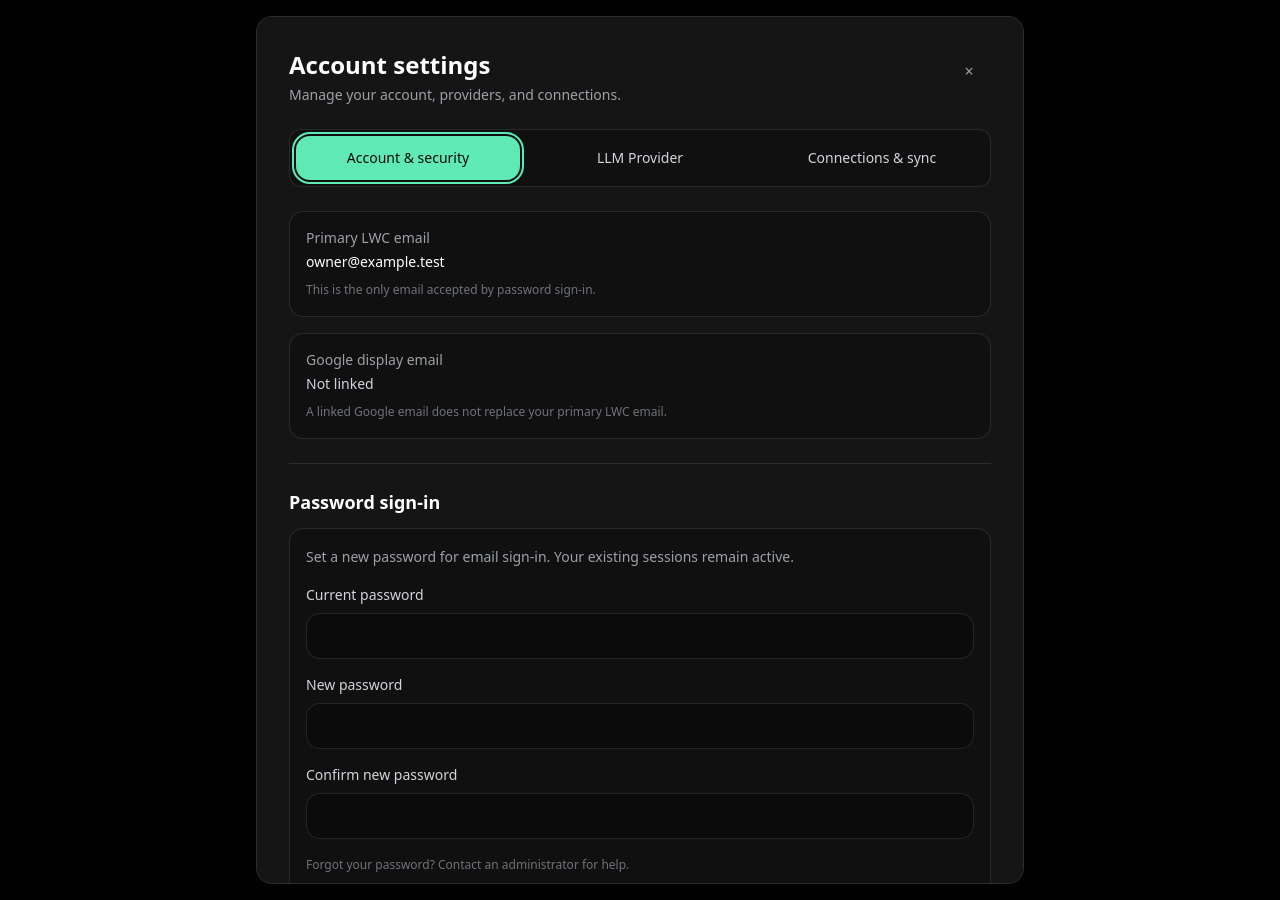
LWC-346 account self-service › requires and sends the current password for configured accounts, then clears password fields on success
In the password field labelled "Current password": [640, 636] box top-left (306, 613), bottom-right (974, 659), type "old-password-431"
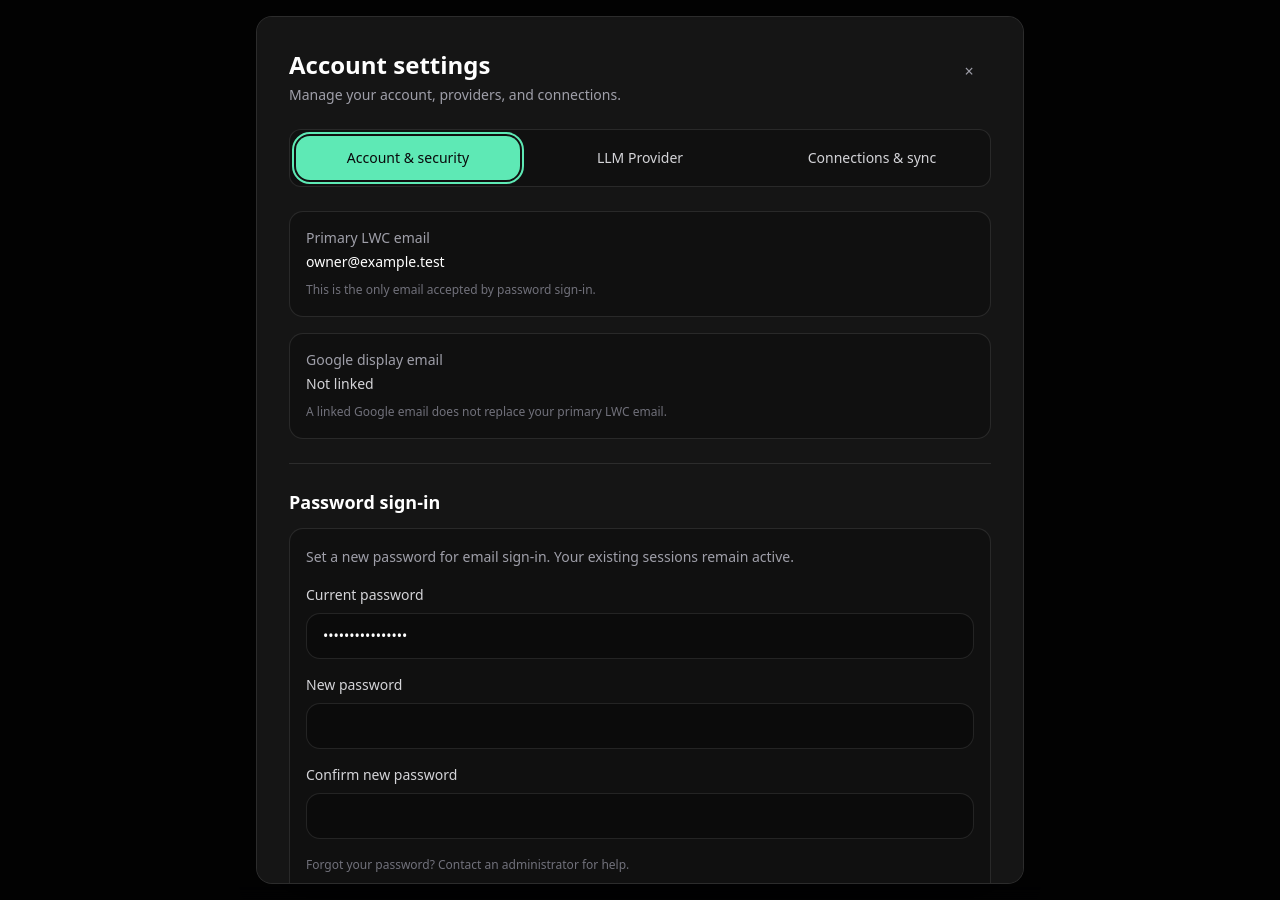
In the password field labelled "New password": [640, 726] box top-left (306, 703), bottom-right (974, 749), type "new-password-431"
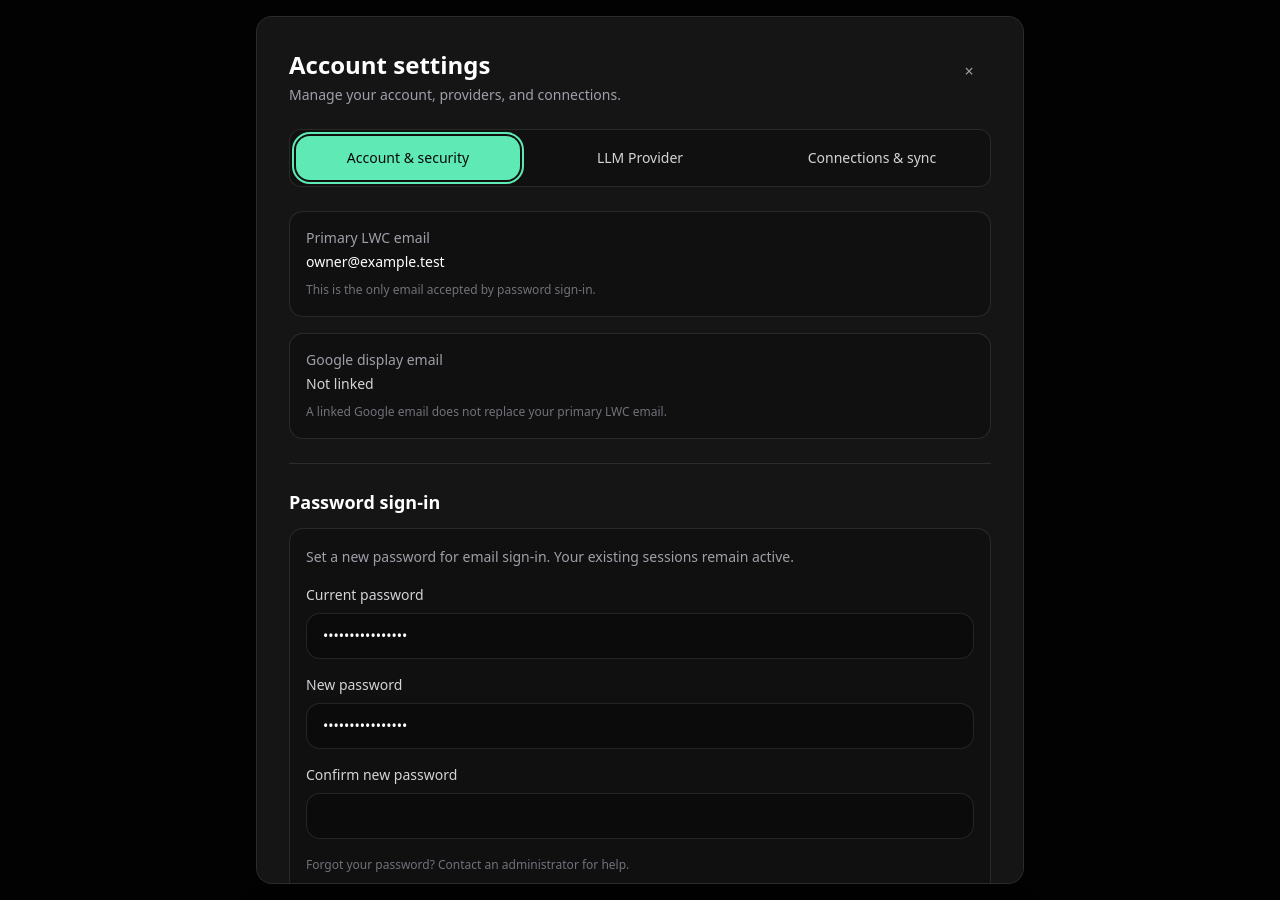
In the password field labelled "Confirm new password": [640, 816] box top-left (306, 793), bottom-right (974, 839), type "new-password-431"
(page scrolled)
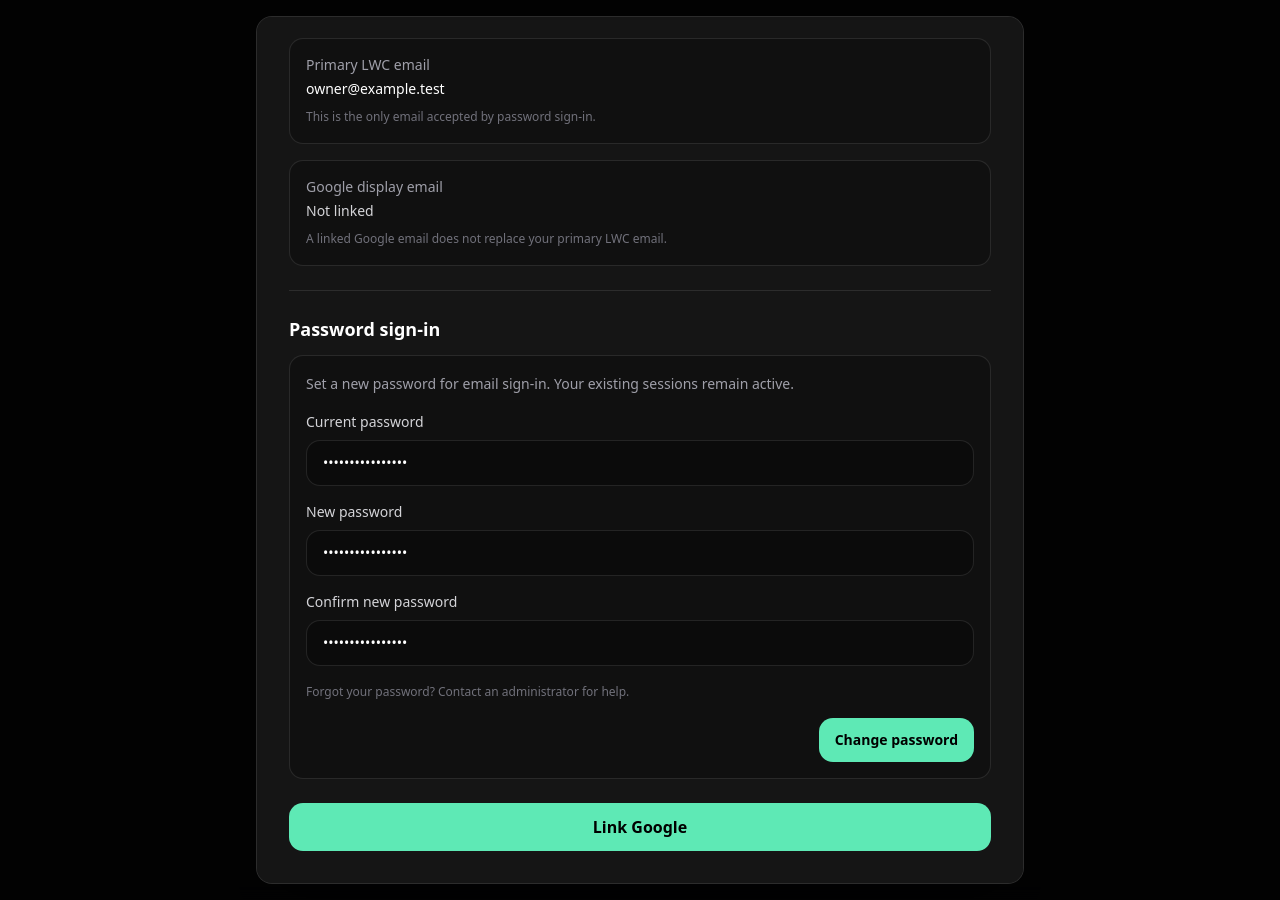
Click the button "Change password": [896, 740] box top-left (819, 718), bottom-right (974, 762)
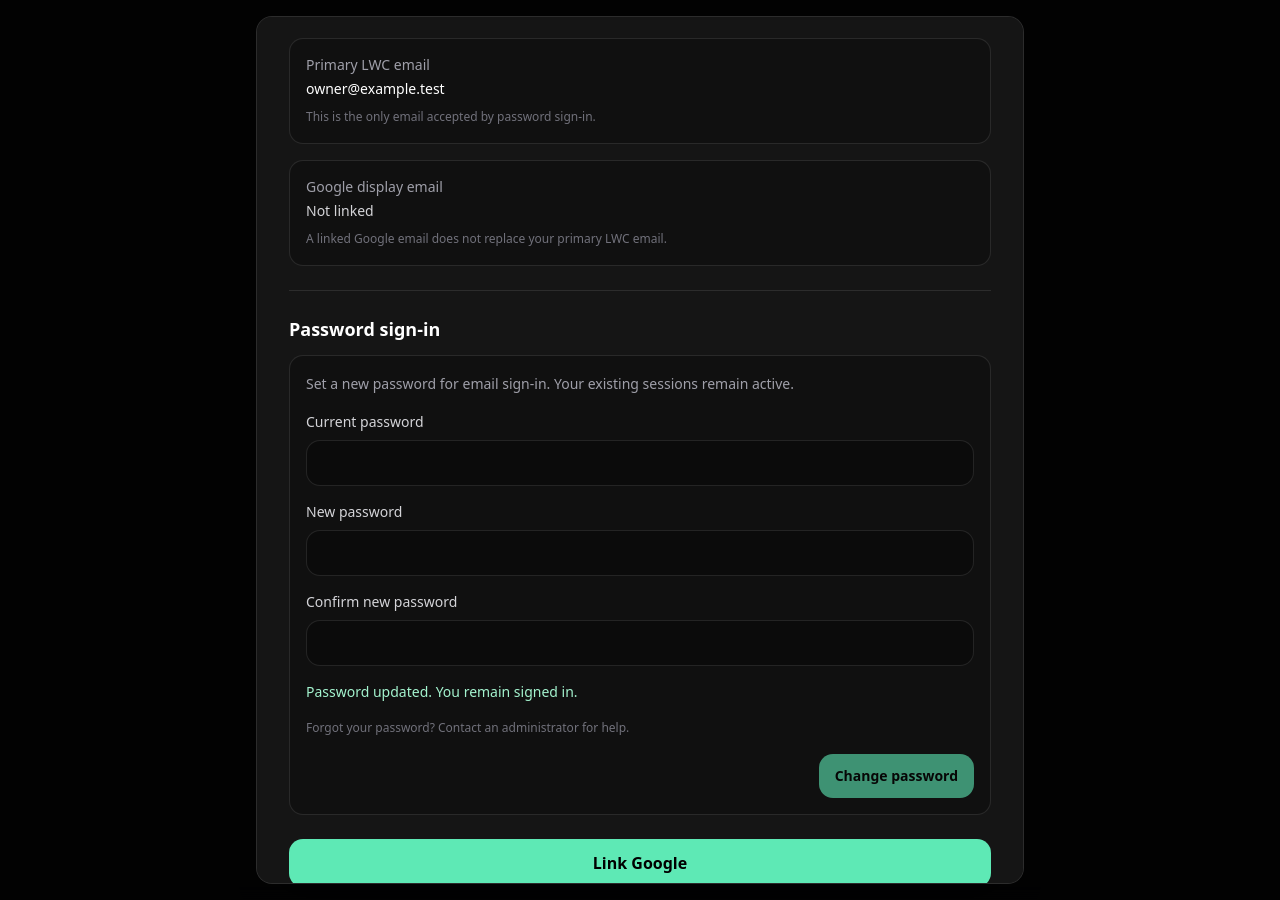
Expected: the text "Password updated. You remain signed in." is shown, top-left (306, 682), bottom-right (578, 701)
Expected: the password field labelled "Current password" is empty, top-left (306, 440), bottom-right (974, 486)
Expected: the password field labelled "New password" is empty, top-left (306, 530), bottom-right (974, 576)
